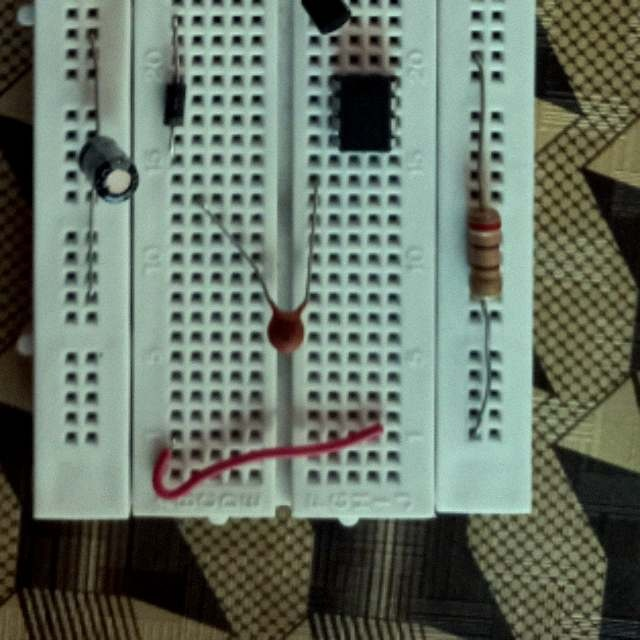capacitor: (74, 133, 140, 204), (266, 296, 310, 354)
resistor: (463, 206, 507, 302)
